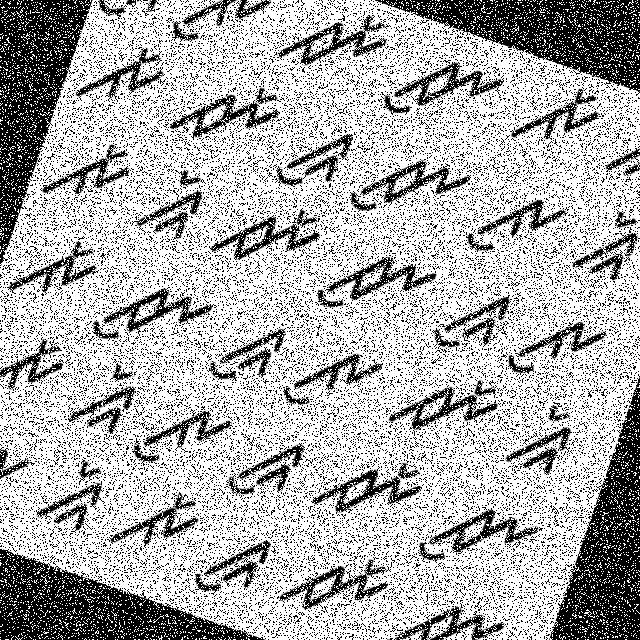ar: (508, 65, 614, 169), (69, 26, 174, 130), (3, 216, 108, 320), (102, 469, 206, 572), (36, 123, 141, 225), (0, 315, 75, 415)
aw: (126, 382, 237, 490), (275, 329, 388, 433), (502, 296, 614, 399), (460, 178, 570, 276), (166, 0, 279, 74), (0, 426, 34, 535)
nggar: (495, 386, 585, 486), (127, 156, 215, 258), (62, 349, 152, 448), (27, 442, 114, 543), (564, 190, 639, 292), (599, 97, 639, 202)
nggaw: (220, 418, 314, 518), (426, 275, 518, 369), (190, 514, 278, 610), (268, 115, 358, 208), (200, 305, 290, 396), (89, 0, 179, 38)
njar: (272, 523, 400, 639), (307, 430, 434, 546), (164, 60, 287, 173), (384, 354, 509, 463), (202, 182, 328, 290), (273, 0, 394, 96)
njaw: (306, 227, 448, 345), (374, 31, 509, 153), (84, 260, 218, 378), (341, 133, 476, 248), (412, 480, 545, 592), (377, 574, 515, 639)
